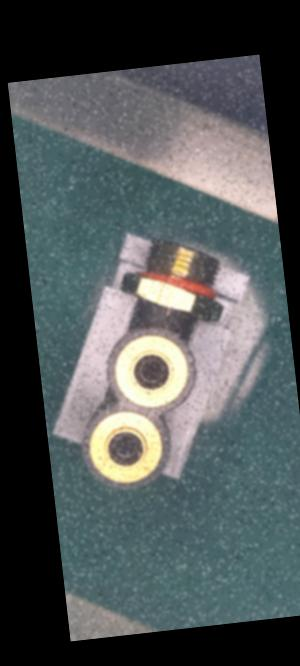craze: (160, 305, 176, 330)
